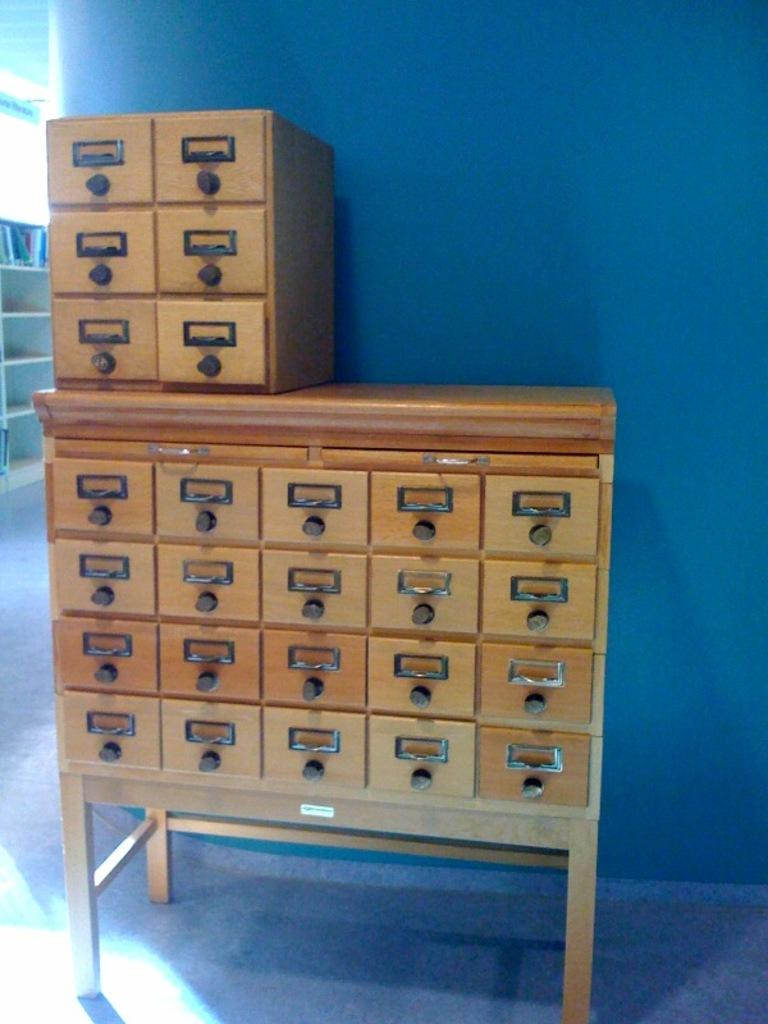cabinet_door: (479, 636, 595, 736), (478, 718, 597, 812), (367, 708, 477, 802), (315, 444, 601, 480), (370, 462, 482, 553), (482, 478, 602, 560), (59, 432, 309, 470), (366, 628, 479, 712), (260, 630, 369, 715), (155, 302, 266, 384), (370, 558, 480, 640), (262, 466, 370, 548), (260, 546, 368, 627), (482, 562, 594, 640), (156, 542, 262, 623), (156, 126, 266, 204), (56, 536, 158, 620), (262, 704, 368, 784), (160, 219, 265, 299), (59, 612, 159, 696), (159, 698, 261, 778), (158, 622, 261, 700), (51, 219, 155, 296), (46, 126, 152, 200), (57, 302, 154, 382), (57, 454, 151, 534), (157, 465, 261, 535), (67, 688, 160, 762)
handle: (425, 452, 486, 476), (150, 441, 208, 462), (193, 589, 222, 620), (96, 658, 116, 690), (86, 172, 110, 198), (199, 747, 219, 778), (411, 678, 430, 710), (198, 352, 222, 376), (302, 513, 324, 539), (302, 676, 321, 706), (530, 524, 550, 552), (413, 599, 433, 627), (413, 764, 433, 792), (93, 351, 117, 374), (300, 600, 324, 623), (96, 741, 120, 764), (525, 690, 546, 716), (198, 169, 218, 195), (94, 254, 112, 282), (524, 775, 543, 801), (91, 586, 114, 607), (528, 608, 548, 632), (198, 667, 214, 697), (199, 262, 221, 283), (91, 505, 110, 529), (303, 756, 322, 780), (416, 519, 434, 542), (196, 514, 213, 536)
